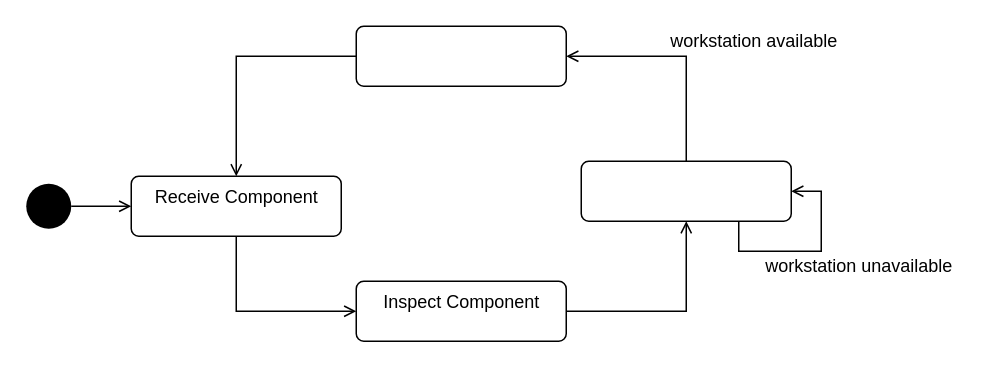
The diagram is 989 pixels wide and 368 high, and some of its shapes have lost their labels. The centre of each missing label's shape, as x and y in pixels:
"Check Workstation Availability" belongs at (685,190).
"Pass Component" belongs at (460,55).
